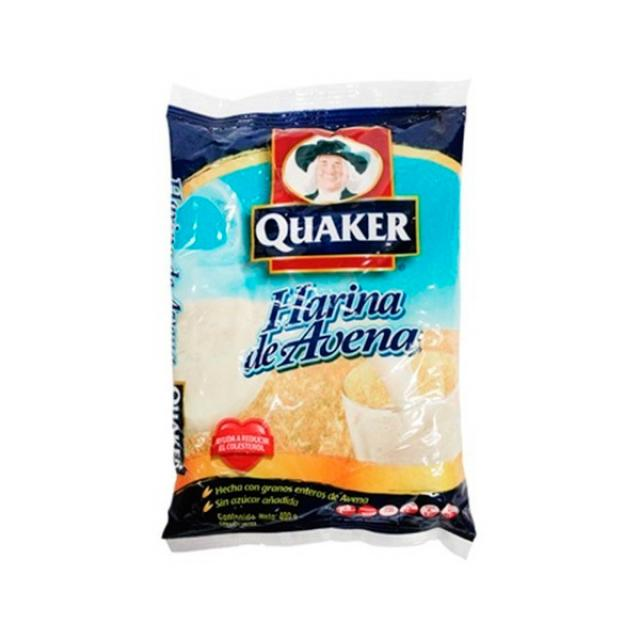Paquete: (161, 78, 477, 558)
